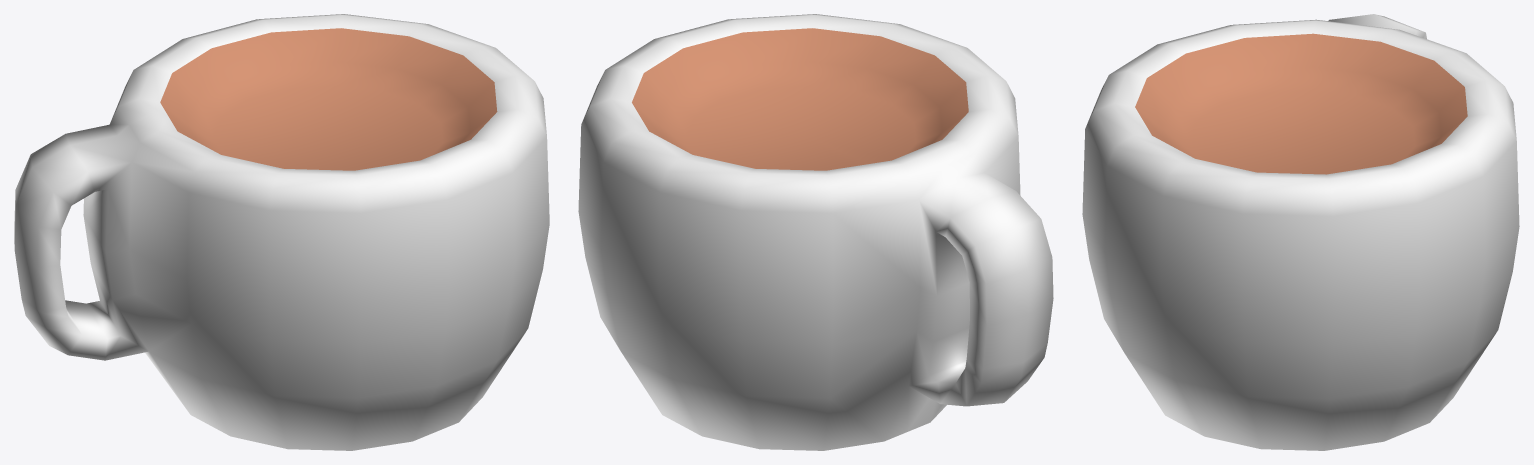
The model's file is Latte_Food.glb.
3 renders of one model, left to right at view 1: azimuth 30°, elevation 25°; view 2: azimuth 150°, elevation 25°; view 3: azimuth 270°, elevation 25°, orthographic.
Parts seen in each view (by area): view 1: Latte_Food; view 2: Latte_Food; view 3: Latte_Food.
Part boxes in pixels (<box>): Latte_Food: <box>14,14,549,450</box>; Latte_Food: <box>578,14,1053,450</box>; Latte_Food: <box>1082,14,1519,450</box>.
Bounding box in the file's own units: 0.1119 × 0.0669 × 0.0926.
1 material, 1 textured.
